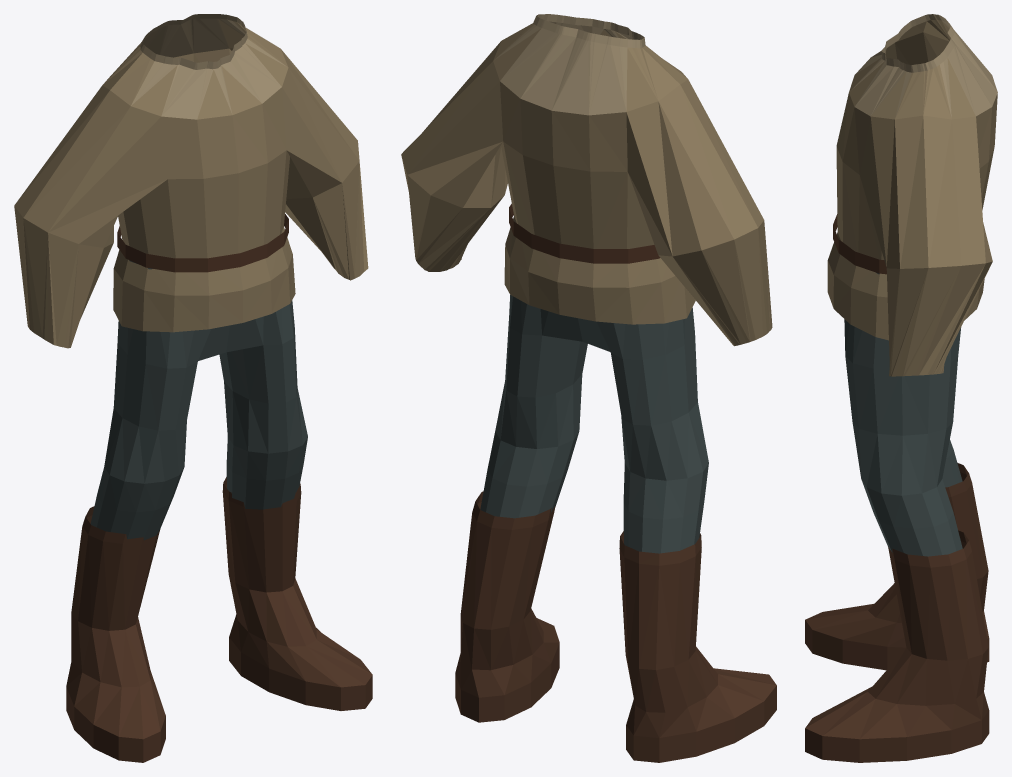
The model's file is outfit.glb.
The picture shows the model from 3 angles, left to right: view 1: azimuth 30°, elevation 25°; view 2: azimuth 150°, elevation 25°; view 3: azimuth 270°, elevation 25°; orthographic projection. The views are drawn at different scales.
Parts seen in each view (by area): view 1: Module_outfit; view 2: Module_outfit; view 3: Module_outfit.
Part boxes in pixels (x1,y1,x2,y2): Module_outfit: (14,14,372,762); Module_outfit: (401,14,776,762); Module_outfit: (805,14,997,762).
Bounding box in the file's own units: 0.7448 × 1.43 × 0.3752.
